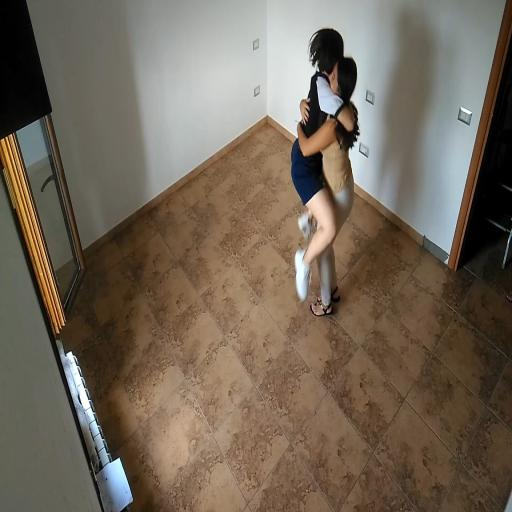nao-violencia: (279, 19, 363, 322)
